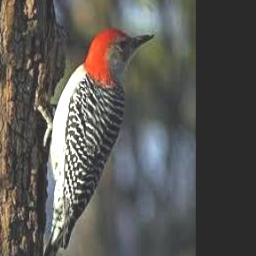Woodpecker: (39, 27, 154, 256)
